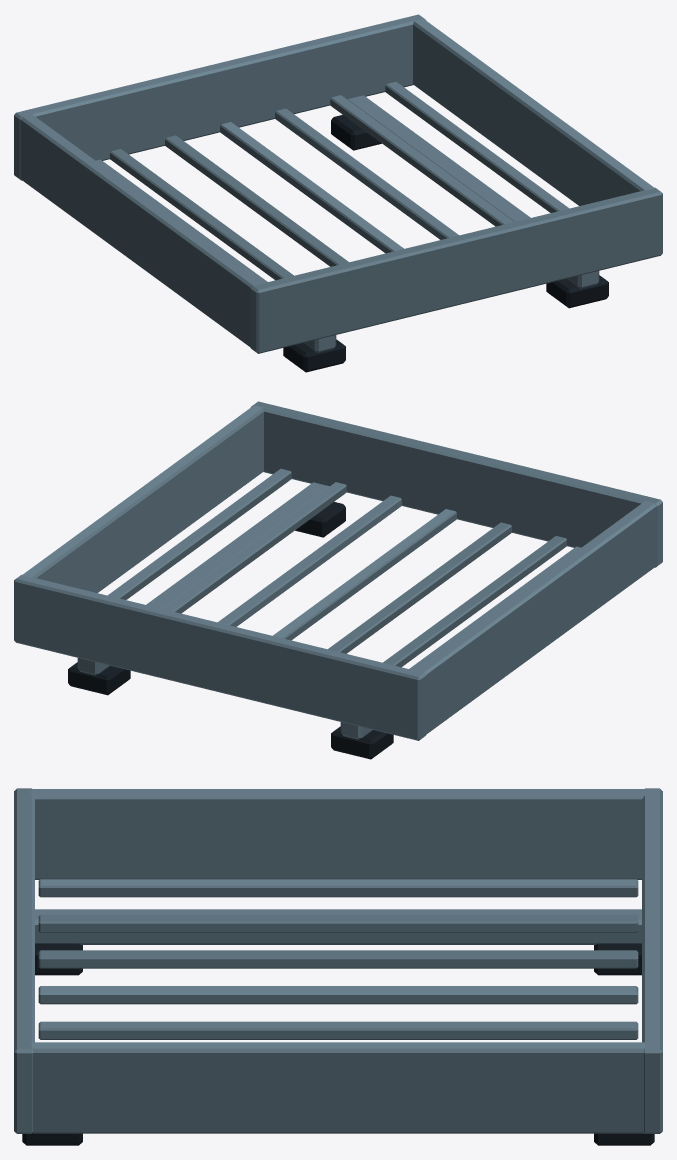
Rendered from EC_RoofBasket.fbx.
3 renders of one model, top to bottom at view 1: azimuth 30°, elevation 25°; view 2: azimuth 150°, elevation 25°; view 3: azimuth 270°, elevation 25°, orthographic. The views are drawn at different scales.
Parts seen in each view (by area): view 1: EC_RoofBasket; view 2: EC_RoofBasket; view 3: EC_RoofBasket.
Part boxes in pixels (bbox=[...]): EC_RoofBasket: bbox=[14, 14, 662, 372]; EC_RoofBasket: bbox=[14, 401, 662, 759]; EC_RoofBasket: bbox=[14, 788, 662, 1145].
Size of the model in its own units: 1.33 by 0.305 by 1.38.
